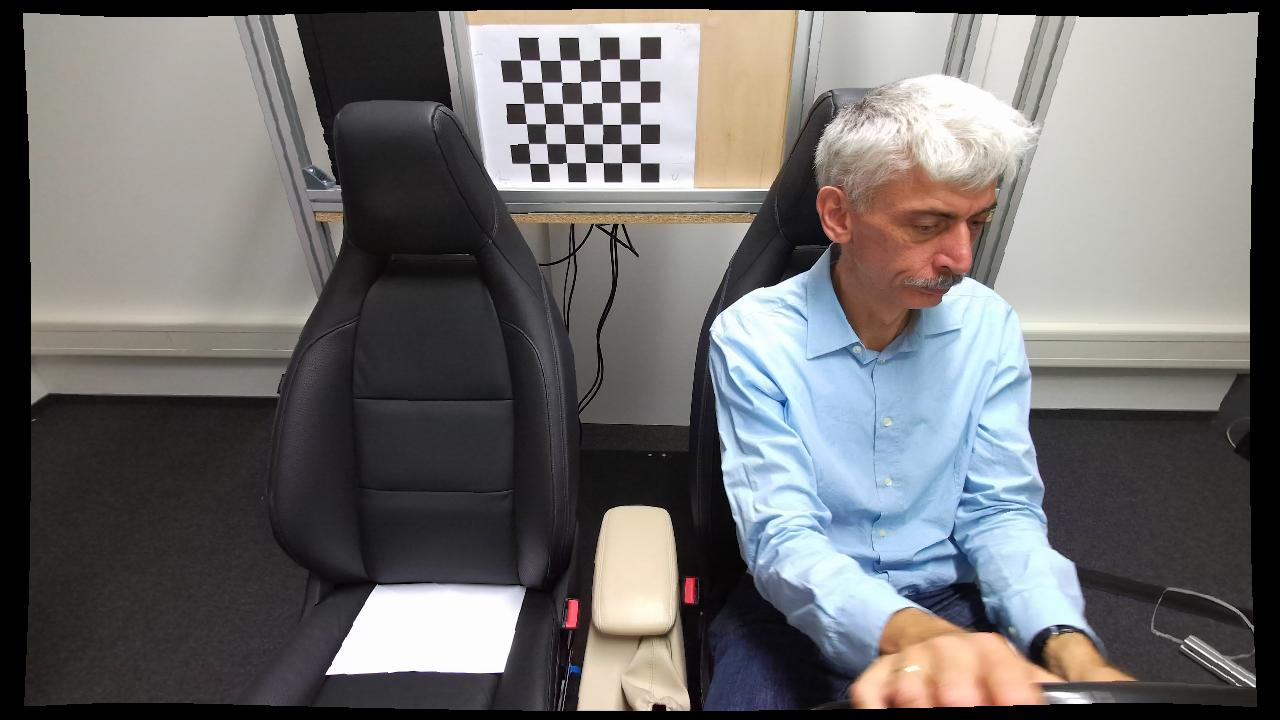Distracted: (694, 83, 1135, 712)
